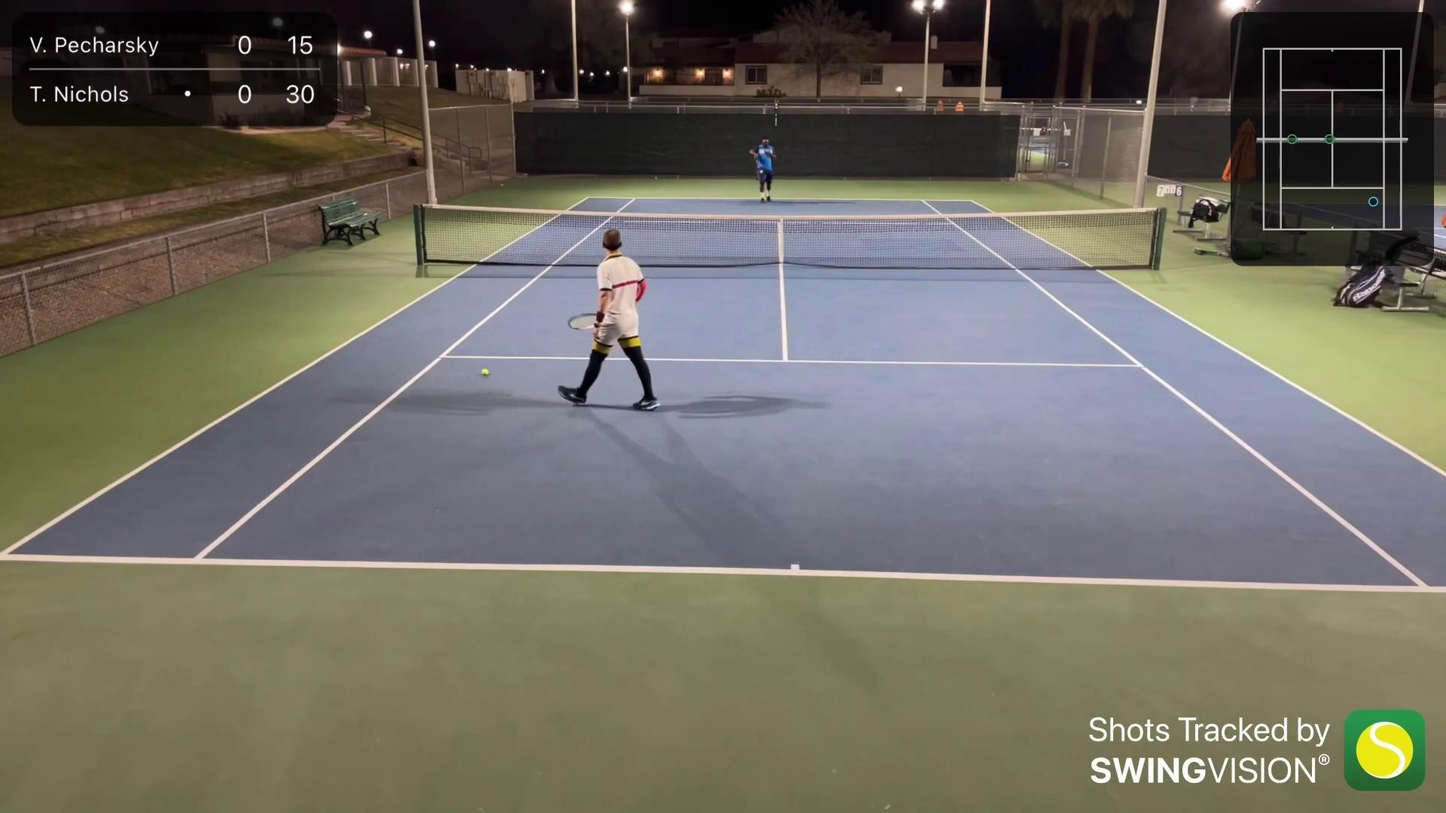ball: (479, 367, 493, 378), (760, 169, 763, 174)
